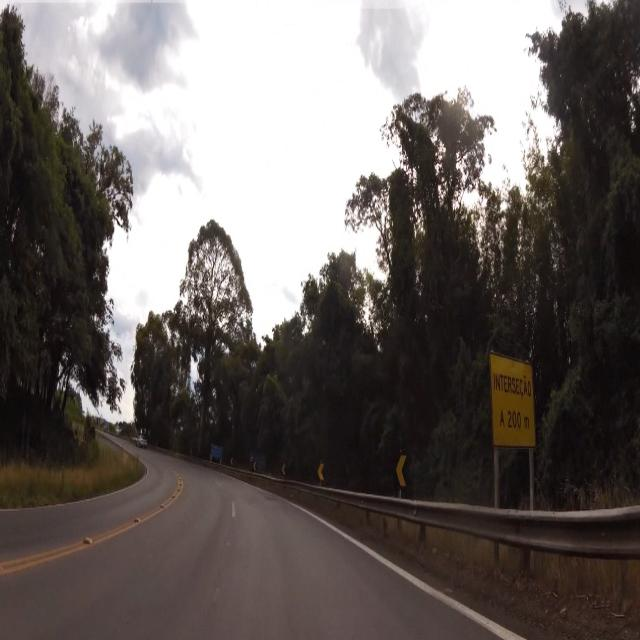Del: (392, 450, 412, 493), (317, 461, 327, 481)
